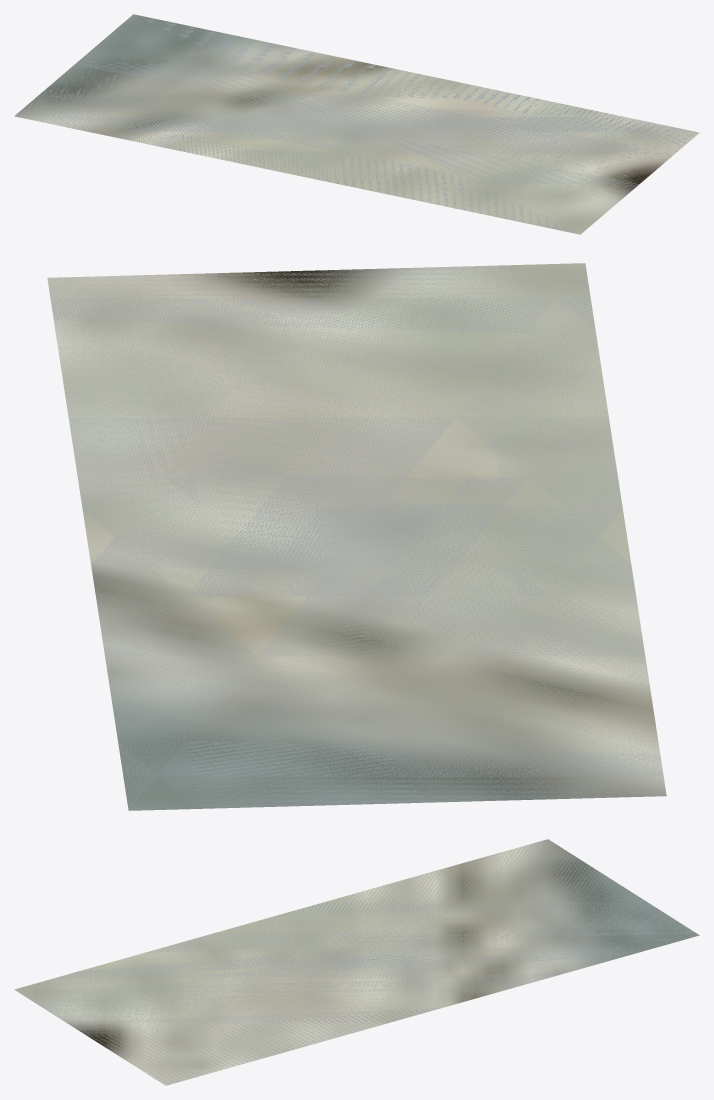
The model's file is 西庸城堡214.dae.
3 renders of one model, top to bottom at view 1: azimuth 30°, elevation 25°; view 2: azimuth 150°, elevation 25°; view 3: azimuth 270°, elevation 25°, orthographic. The views are drawn at different scales.
Parts seen in each view (by area): view 1: SketchUp; view 2: SketchUp; view 3: SketchUp.
Part boxes in pixels (x1=…): SketchUp: x1=14, y1=14, x2=699, y2=234; SketchUp: x1=47, y1=263, x2=666, y2=810; SketchUp: x1=14, y1=839, x2=699, y2=1085.
Size of the model in its own units: 84.1 by 98.8 by 0.
